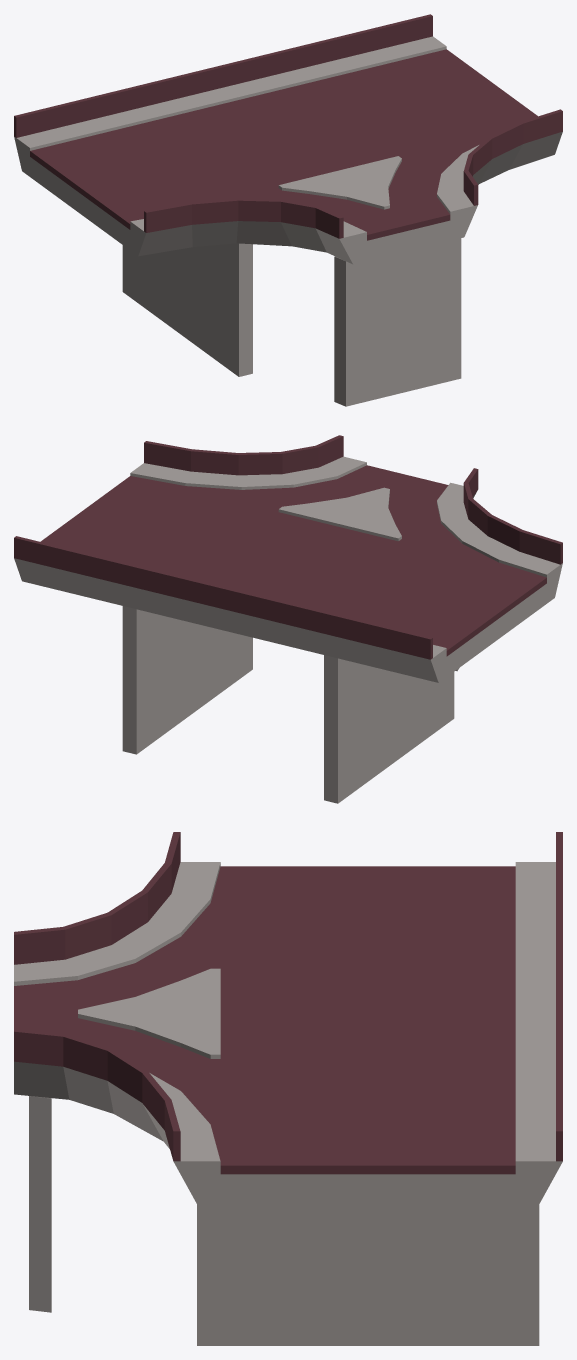
The model's file is bridge-mainroad-exit.fbx.
3 views of the same model, one above another, from view 1: azimuth 30°, elevation 25°; view 2: azimuth 150°, elevation 25°; view 3: azimuth 270°, elevation 25° (orthographic). The views are drawn at different scales.
Parts seen in each view (by area): view 1: bridge-mainroad-ramp; view 2: bridge-mainroad-ramp; view 3: bridge-mainroad-ramp.
Boxes of the visible parts, box(x1,y1,x2,y2) form: bridge-mainroad-ramp: box(14, 14, 562, 406); bridge-mainroad-ramp: box(14, 435, 562, 803); bridge-mainroad-ramp: box(14, 832, 562, 1345).
Size of the model in its own units: 30 by 13.4 by 23.25.
